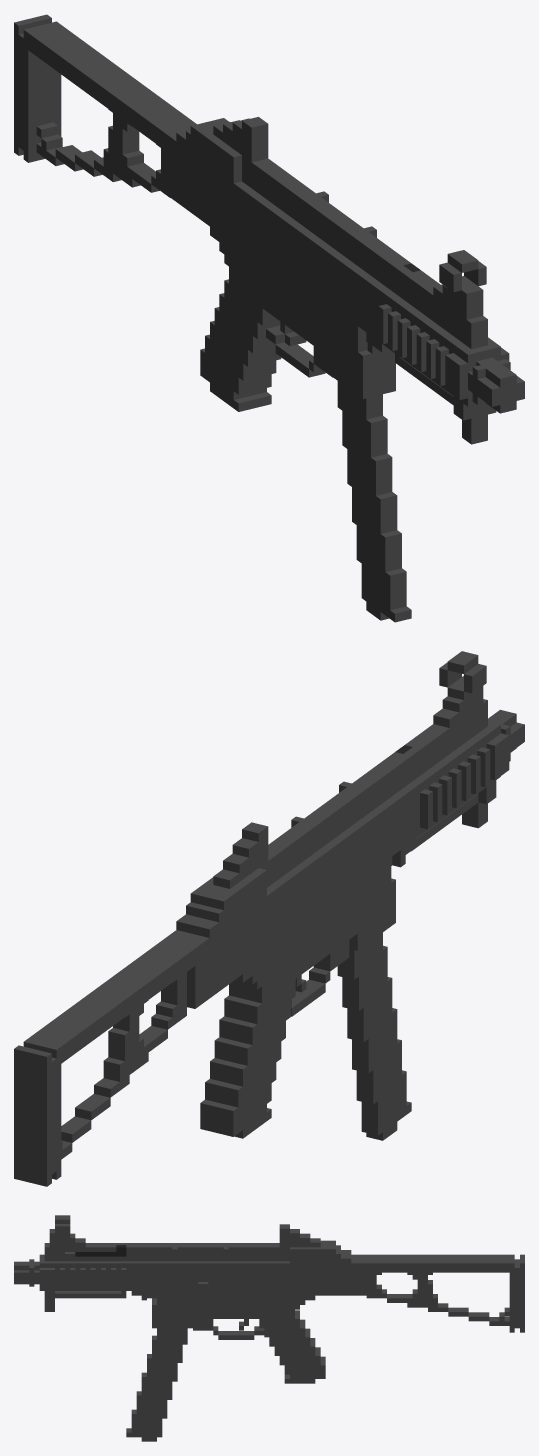
File: SMG_1.obj
The picture shows the model from 3 angles, top to bottom: view 1: azimuth 30°, elevation 25°; view 2: azimuth 150°, elevation 25°; view 3: azimuth 270°, elevation 25°; orthographic projection. The views are drawn at different scales.
Size of the model in its own units: 6 by 48 by 100.
